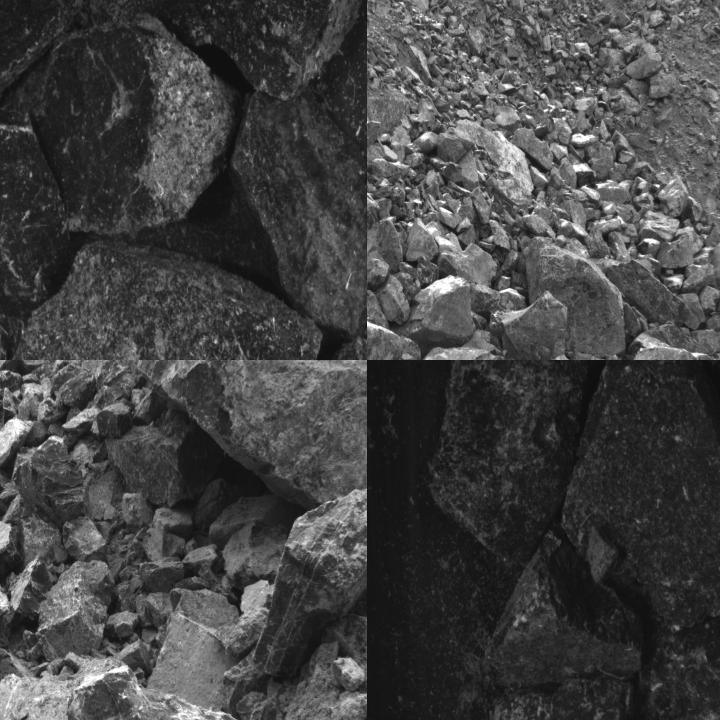stone: (0, 13, 244, 238), (562, 360, 719, 632), (8, 239, 321, 359), (126, 360, 366, 516), (230, 87, 366, 335), (429, 360, 587, 568), (485, 530, 642, 685), (252, 486, 366, 680), (167, 0, 363, 101), (0, 110, 72, 318), (527, 237, 627, 358), (148, 590, 243, 708), (15, 558, 115, 662), (0, 0, 82, 125), (105, 422, 222, 506), (12, 437, 91, 529), (0, 662, 110, 719), (603, 258, 693, 325), (401, 274, 472, 356), (490, 299, 573, 359), (434, 232, 503, 288), (61, 516, 108, 561), (585, 523, 620, 583), (367, 218, 405, 272), (469, 283, 527, 318), (512, 128, 553, 174), (0, 493, 22, 577), (0, 417, 34, 469), (378, 274, 411, 326), (406, 218, 441, 262), (656, 230, 693, 270), (656, 173, 688, 219), (54, 372, 94, 408), (139, 557, 183, 588), (97, 403, 133, 439), (437, 130, 476, 163), (614, 22, 646, 62), (682, 263, 718, 294), (626, 51, 662, 80), (492, 105, 523, 136), (367, 251, 391, 290), (599, 46, 628, 76), (649, 69, 677, 99), (0, 371, 23, 403), (413, 132, 439, 154), (624, 80, 650, 99)
